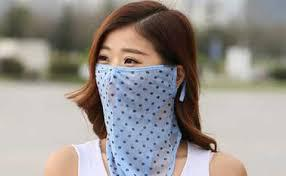OK: (92, 34, 167, 117)
